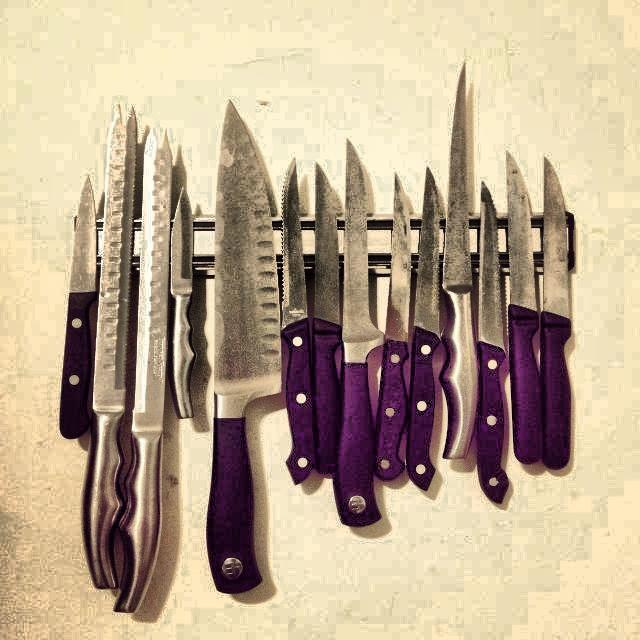knife: (201, 105, 281, 603), (109, 121, 175, 620), (80, 102, 138, 588), (344, 132, 385, 528), (442, 59, 480, 466), (474, 168, 515, 518), (506, 148, 546, 482), (281, 162, 321, 488), (542, 156, 582, 470), (58, 172, 96, 446), (412, 171, 443, 500), (314, 150, 345, 469), (381, 172, 411, 498), (168, 184, 198, 425)
